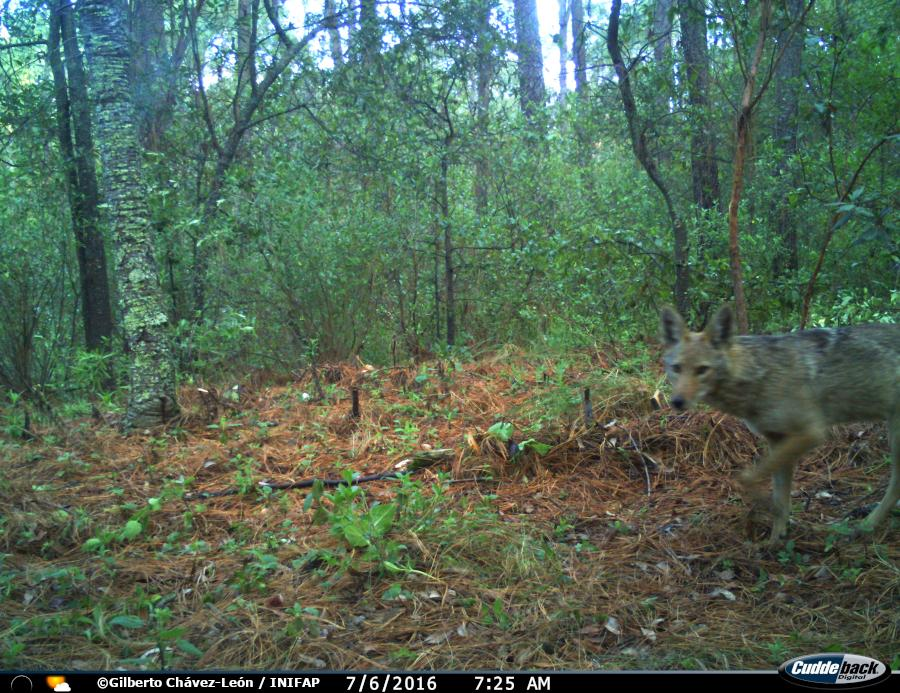Coyote: (654, 296, 900, 550)
